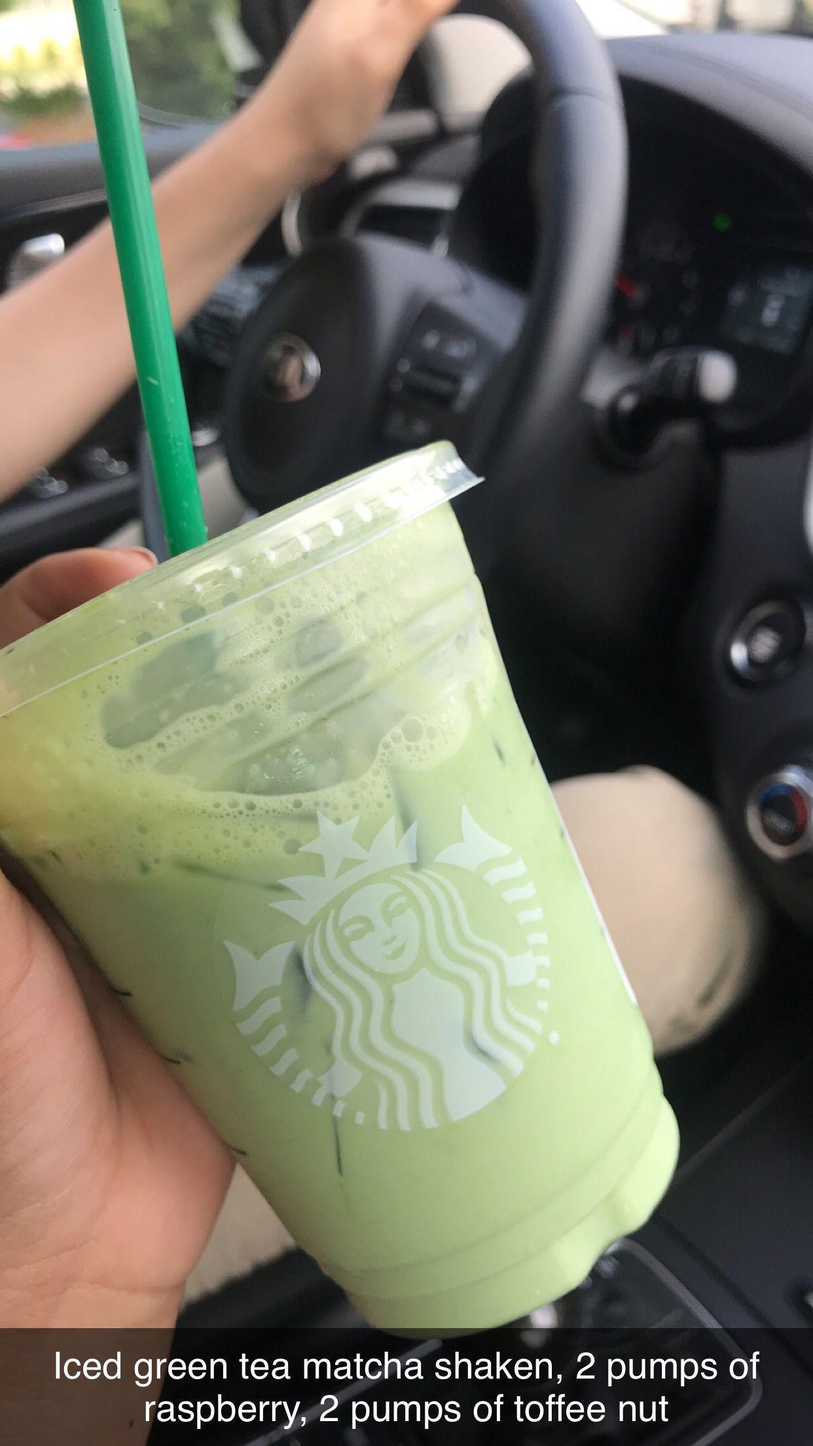cup-disposable: (1, 425, 684, 1326)
